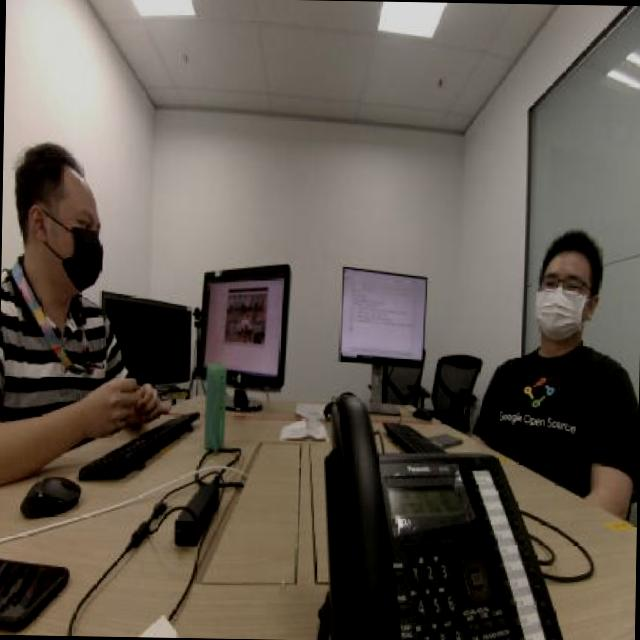Person: (488, 179, 638, 457), (0, 130, 131, 421)
